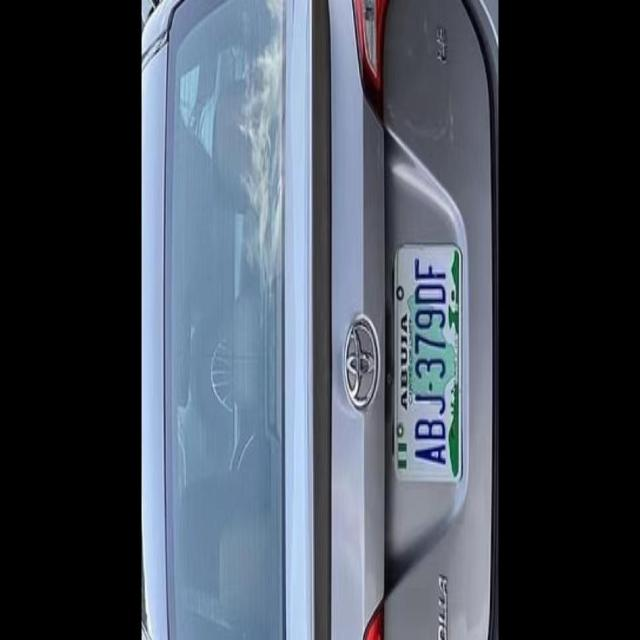Nigerian License Plate - vdataset benjamin-daria: (391, 240, 466, 484)
